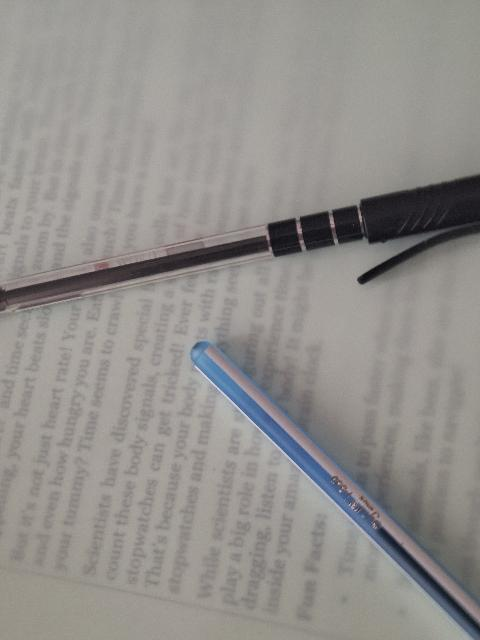writing_tool: (191, 340, 480, 639), (0, 178, 480, 312)
